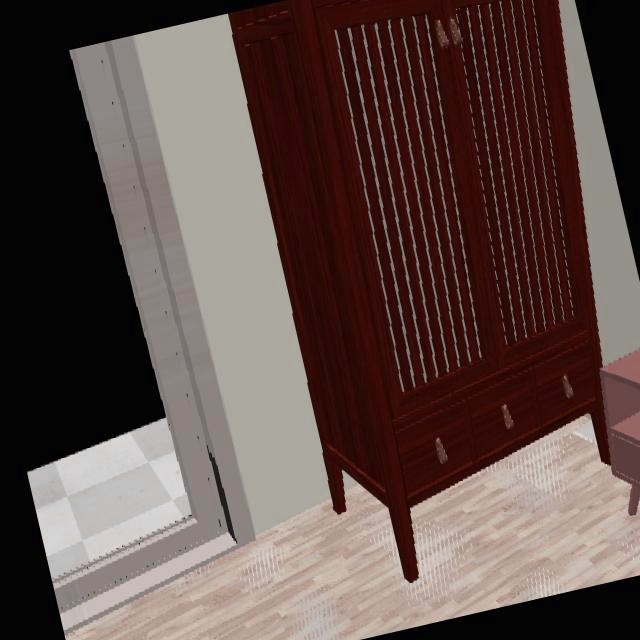nighttable: (600, 349, 640, 513)
wardrobe: (231, 0, 610, 584)
